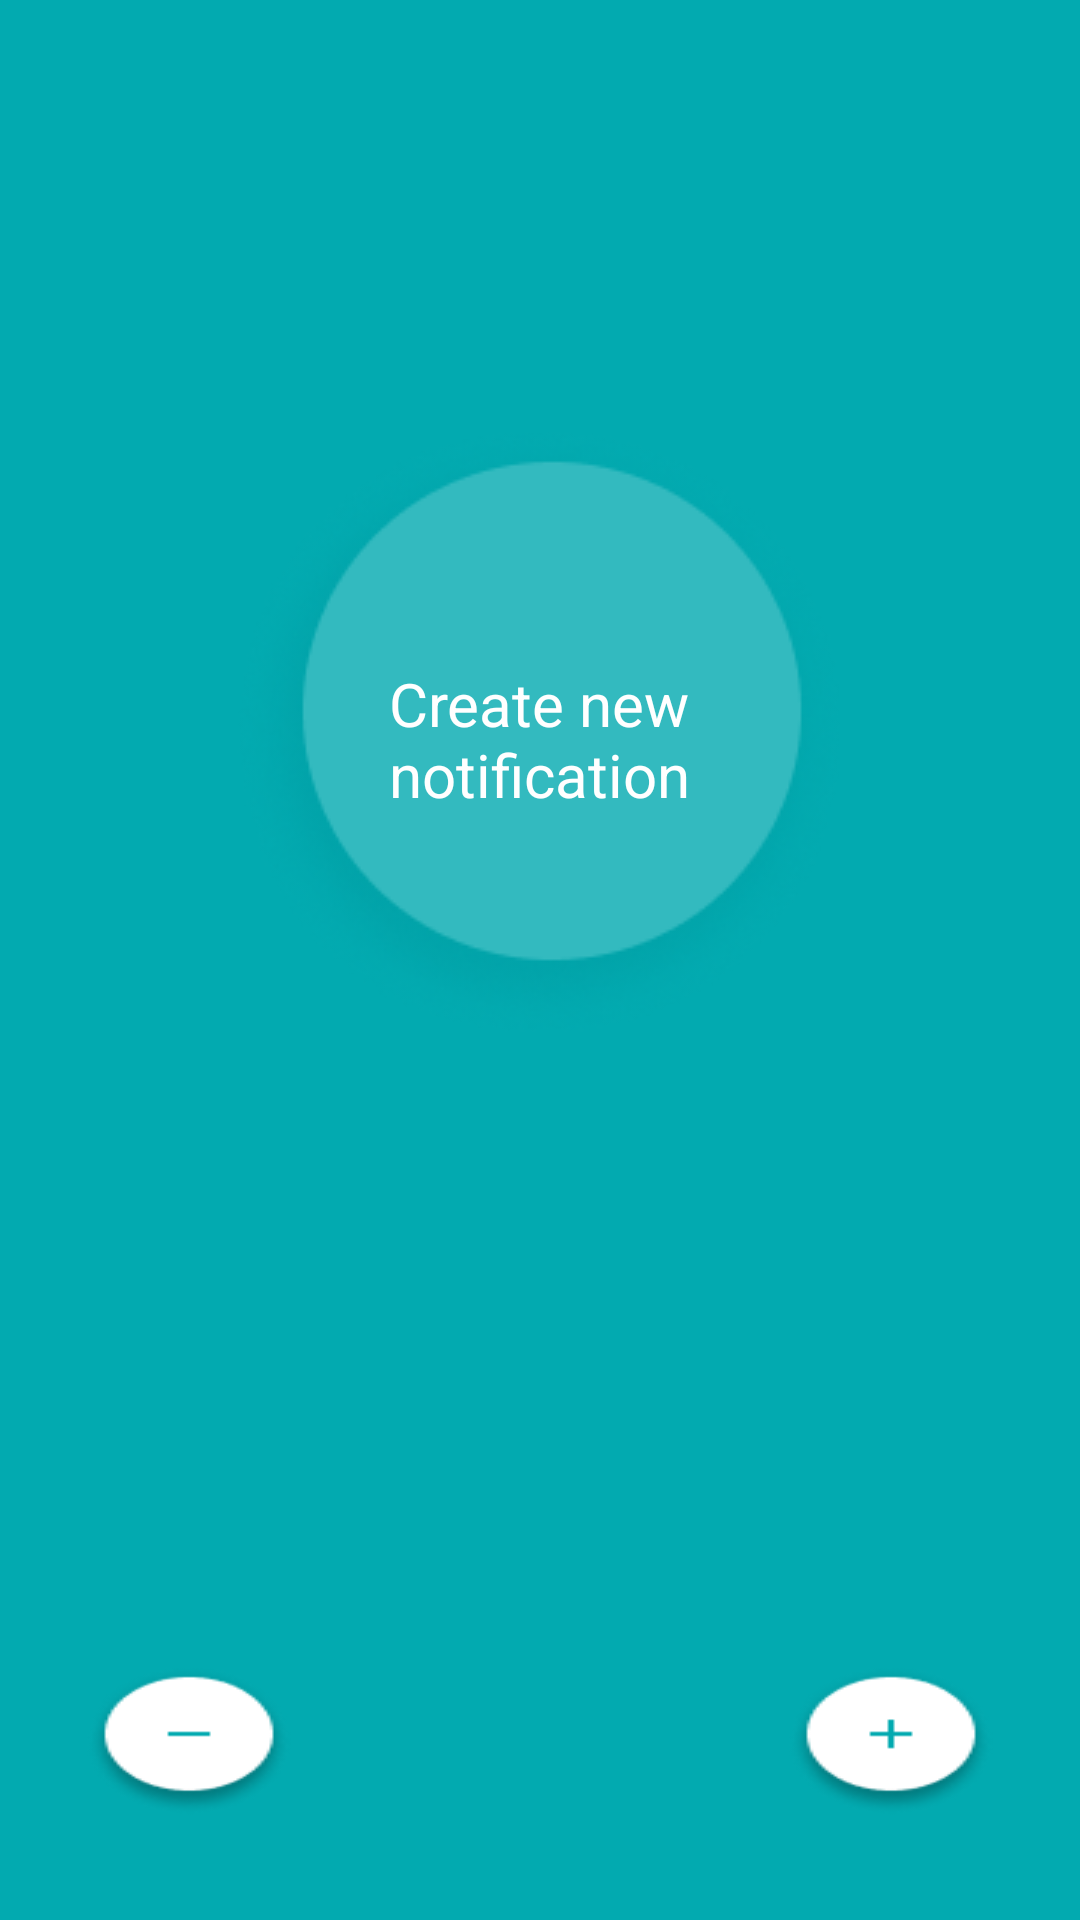

Where icons sit on this 1080w x 1920h app screen, as (x1, y1, x2, y2):
fab minus: (104, 1676, 274, 1802)
fab plus: (806, 1676, 976, 1802)
